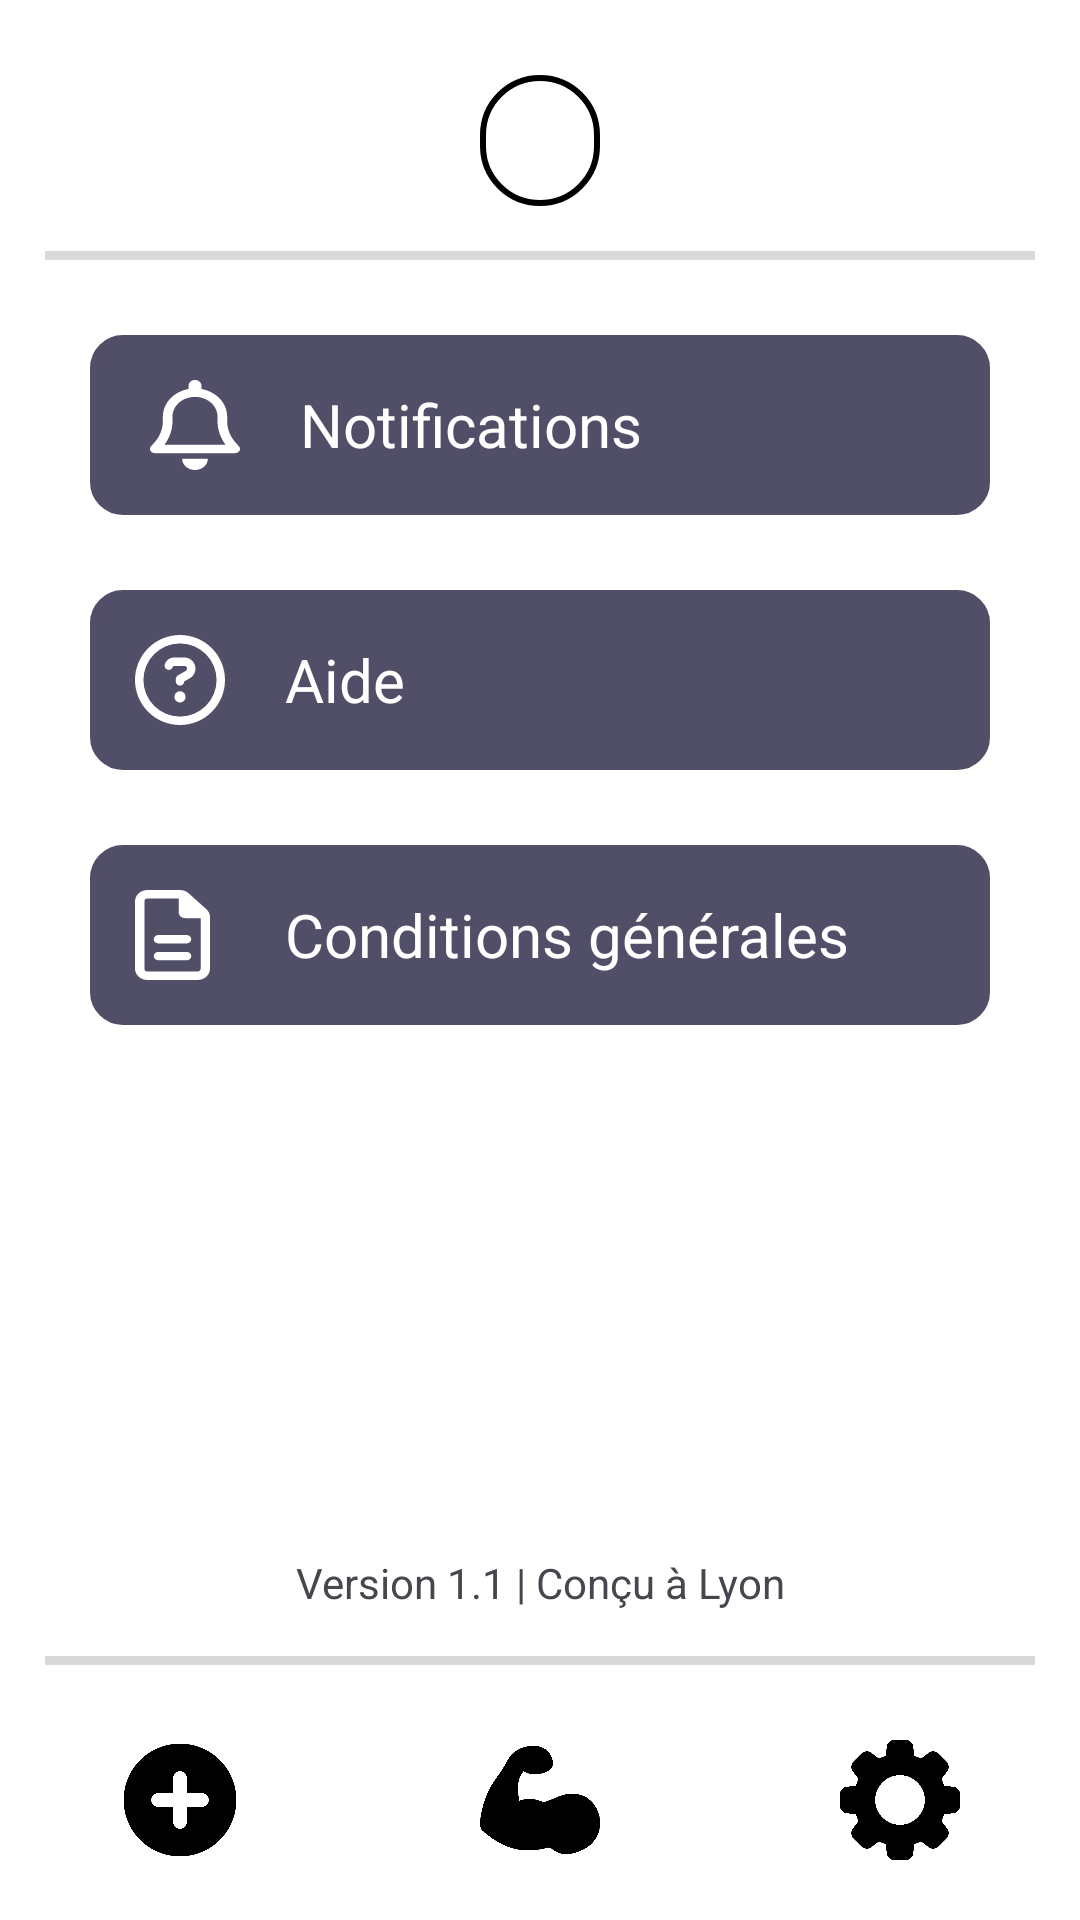

Locate icon controls on the screen. Image size 1080w x 1920h, boxes as [left=x1, top=y1, right=x2, bottom=y2].
bell: [left=150, top=380, right=240, bottom=470]
file lines: [left=135, top=890, right=210, bottom=980]
